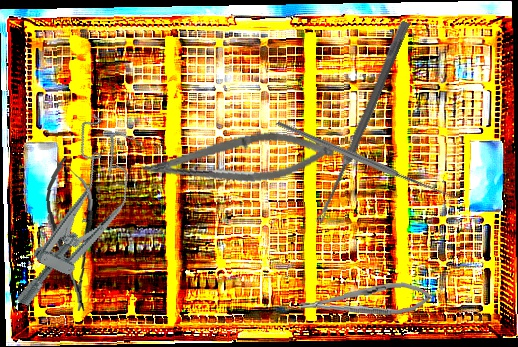Hook Surgical: (274, 56, 466, 259)
Micro Scissor: (137, 122, 337, 200), (40, 155, 104, 314)
Needle Holder: (298, 279, 433, 322)
Speculum: (1, 110, 155, 326)
Surgical Spoon: (314, 19, 411, 226)
